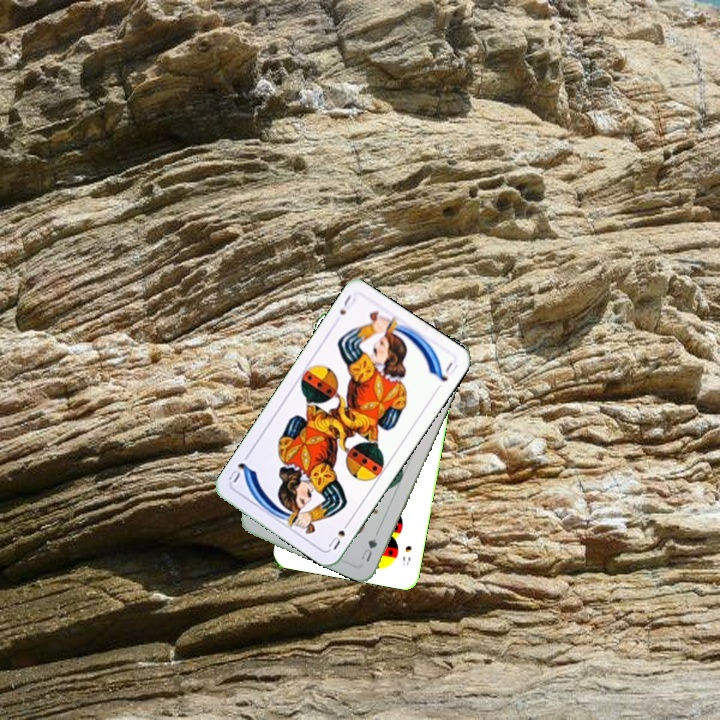GU: (357, 533, 380, 565)
S8: (398, 541, 414, 568)
SU: (324, 516, 353, 552), (335, 290, 358, 317)
